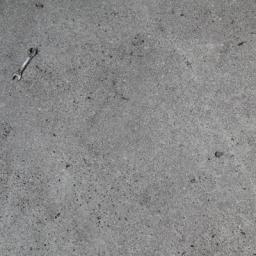FOD: (9, 44, 43, 85)
